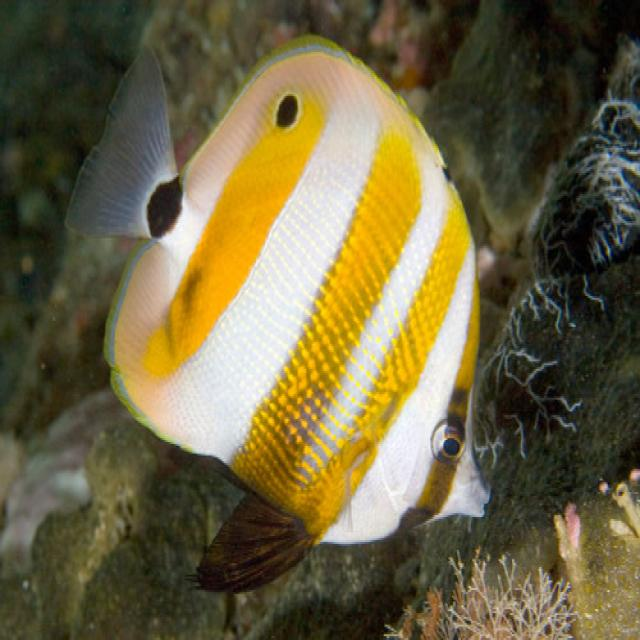ButterflyFish: (61, 36, 494, 595)
